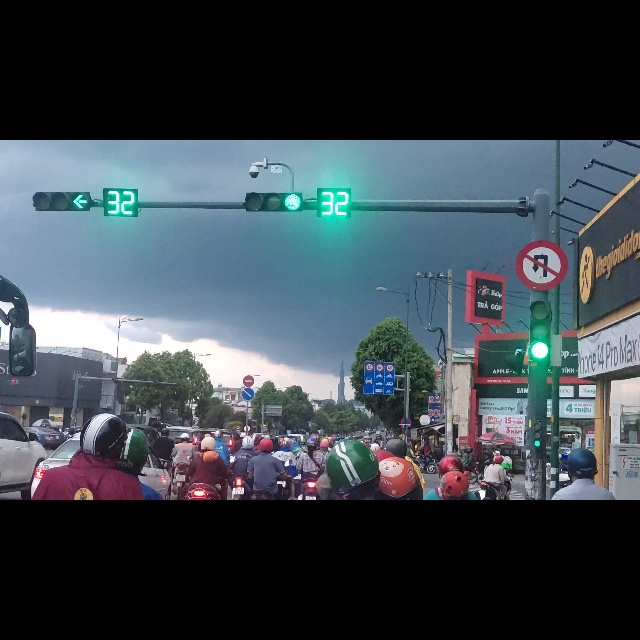bien_hieu_lenh: (515, 176, 568, 267), (363, 393, 395, 453), (242, 440, 254, 462), (243, 417, 254, 440)
